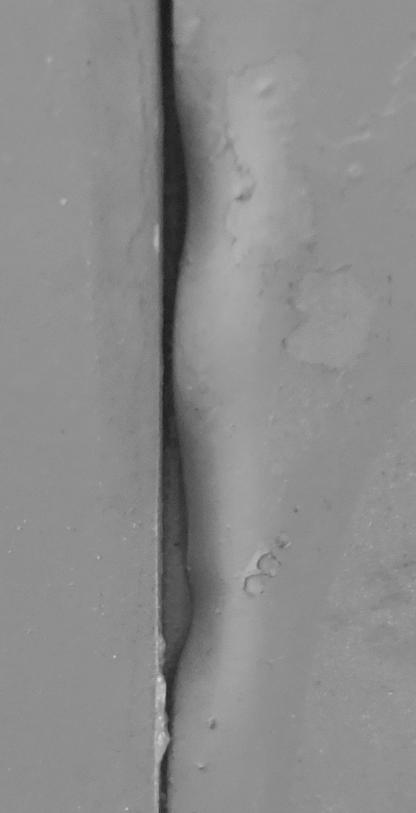dent: (0, 1, 416, 813)
